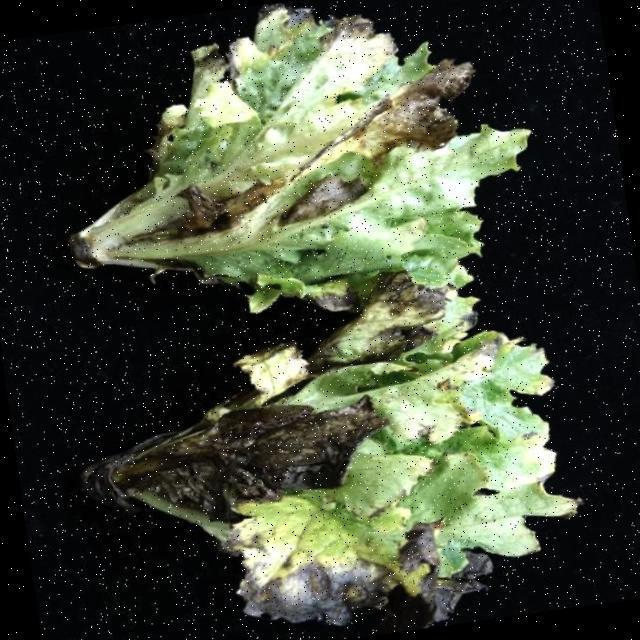Downy_mildew_on_lettuce: (57, 292, 593, 640), (17, 0, 559, 344)
